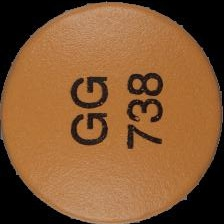55289-166: (0, 0, 224, 224)
